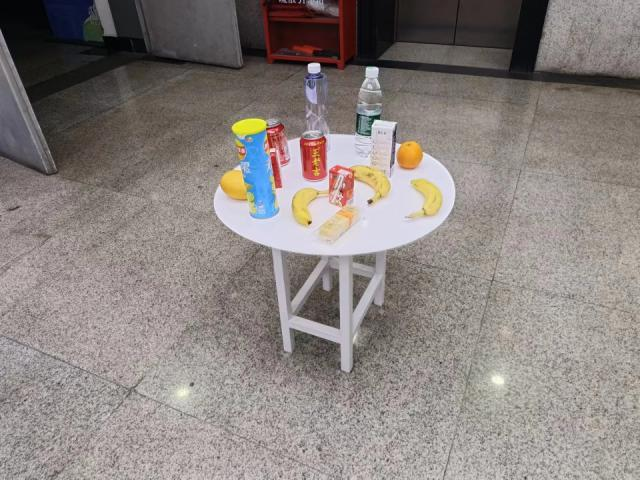Canned_drinks: (298, 130, 329, 182), (264, 118, 292, 166)
bottle: (302, 63, 332, 153), (355, 65, 383, 159)
cylinder: (230, 117, 281, 220)
drink_box: (370, 119, 397, 178), (328, 164, 354, 210), (262, 148, 284, 190)
